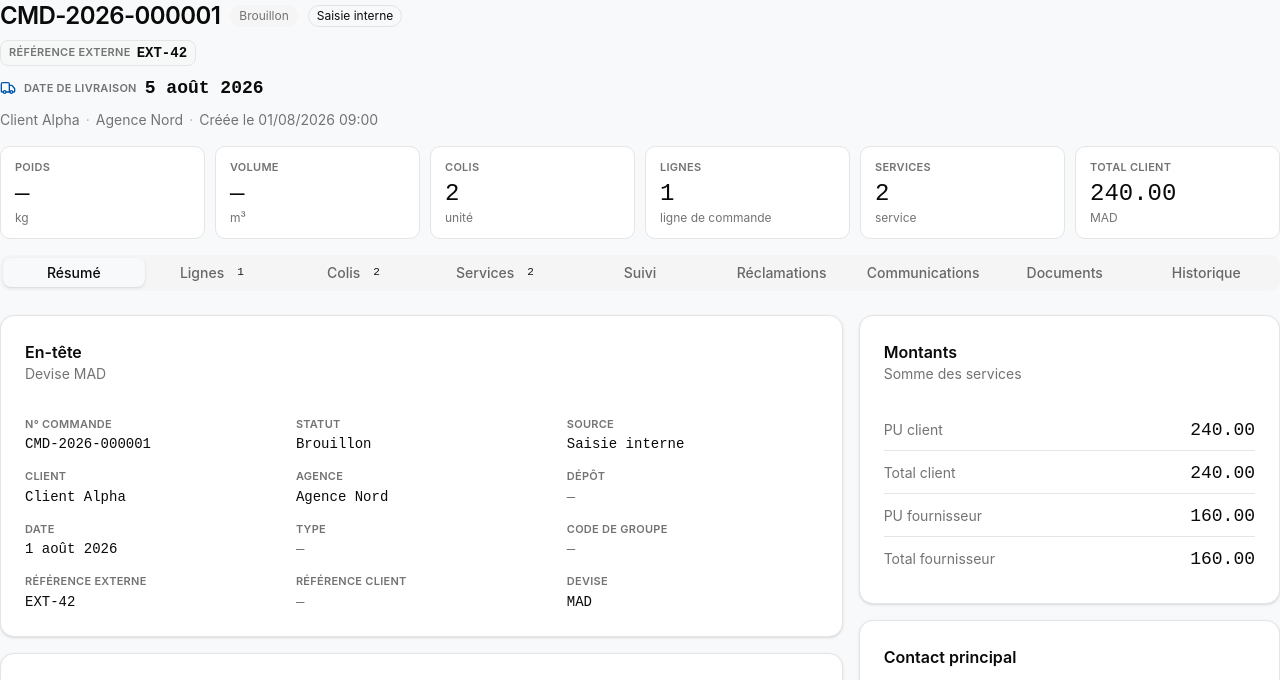
Test: services d’un colis › ne propose que les services qui ne prennent pas encore le colis
The width and height of the screenshot is (1280, 680).
Click the tab "Colis 2". click: (357, 272)
box: [286, 258, 428, 287]
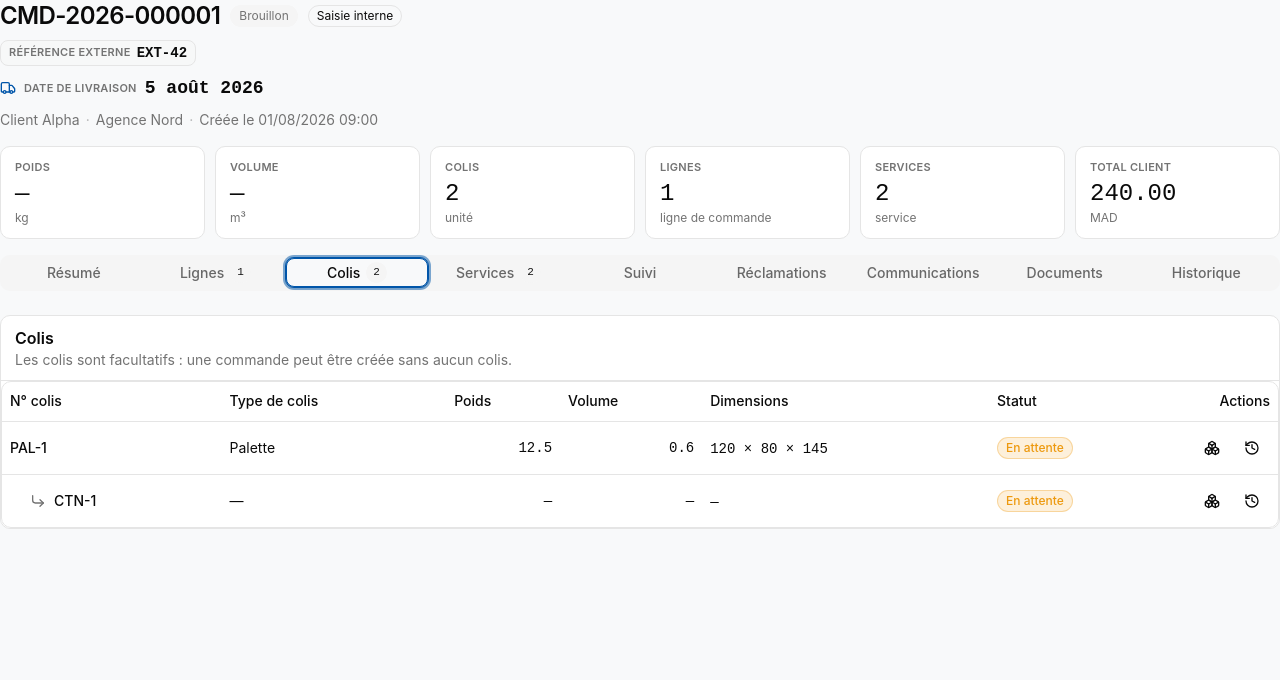
Expected: the text "PAL-1" is shown, [10, 439, 47, 456]
Click the button named "Contenu du colis" in the row of "PAL-1". click: (1212, 448)
box: [1194, 430, 1230, 466]
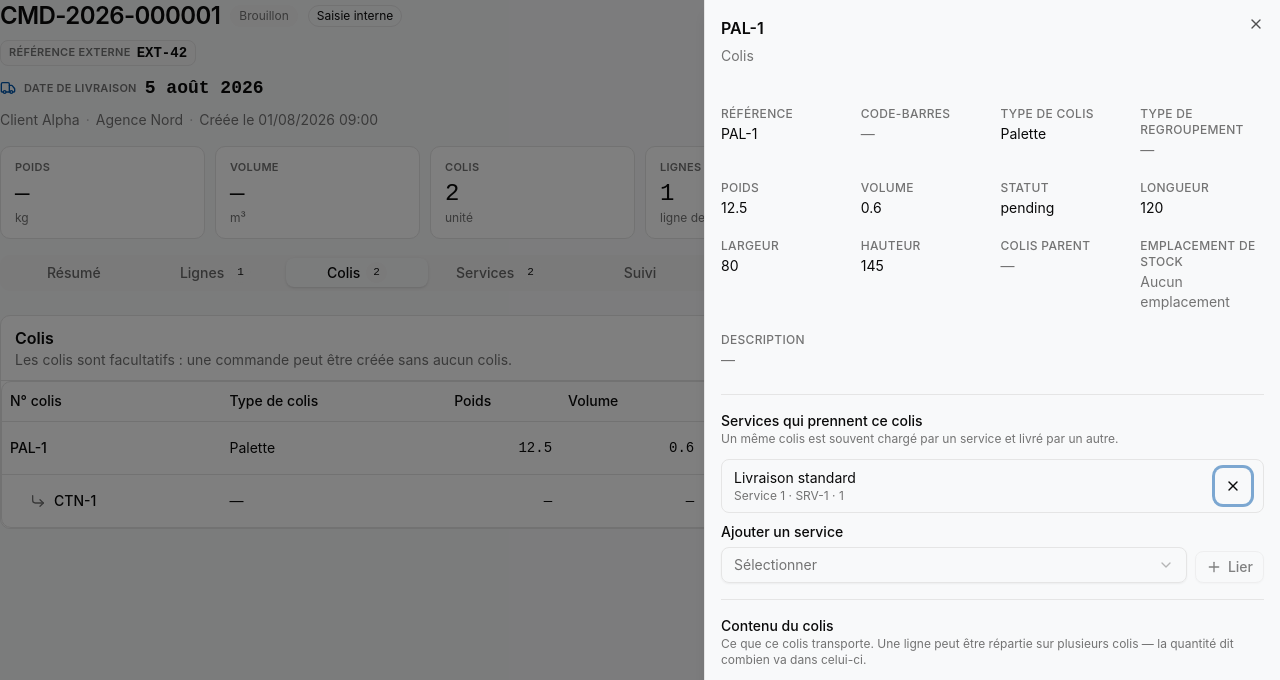
Click the dropdown named "Ajouter un service". click: (776, 564)
box: [721, 547, 1187, 583]
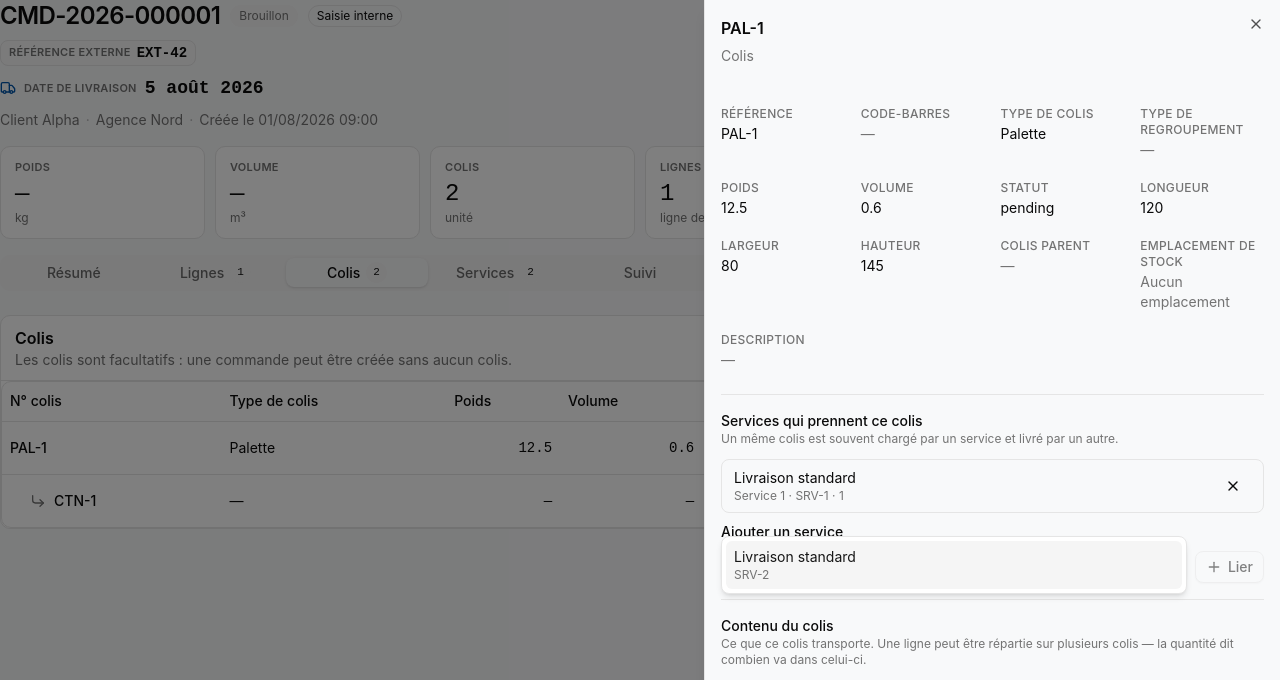
Expected: the number of options is 1, [726, 541, 1182, 589]
